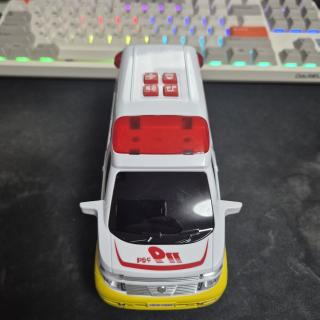Ambulance: (80, 46, 241, 309)
